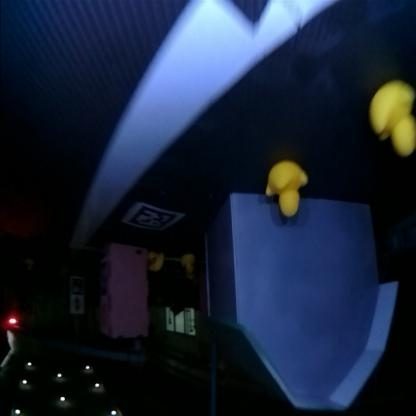Duckie: (372, 82, 415, 157), (267, 161, 307, 215), (150, 254, 164, 272), (183, 254, 195, 273), (28, 259, 34, 271)
QR code: (123, 204, 184, 230), (71, 280, 83, 295)
Traffic light: (5, 319, 20, 331)
